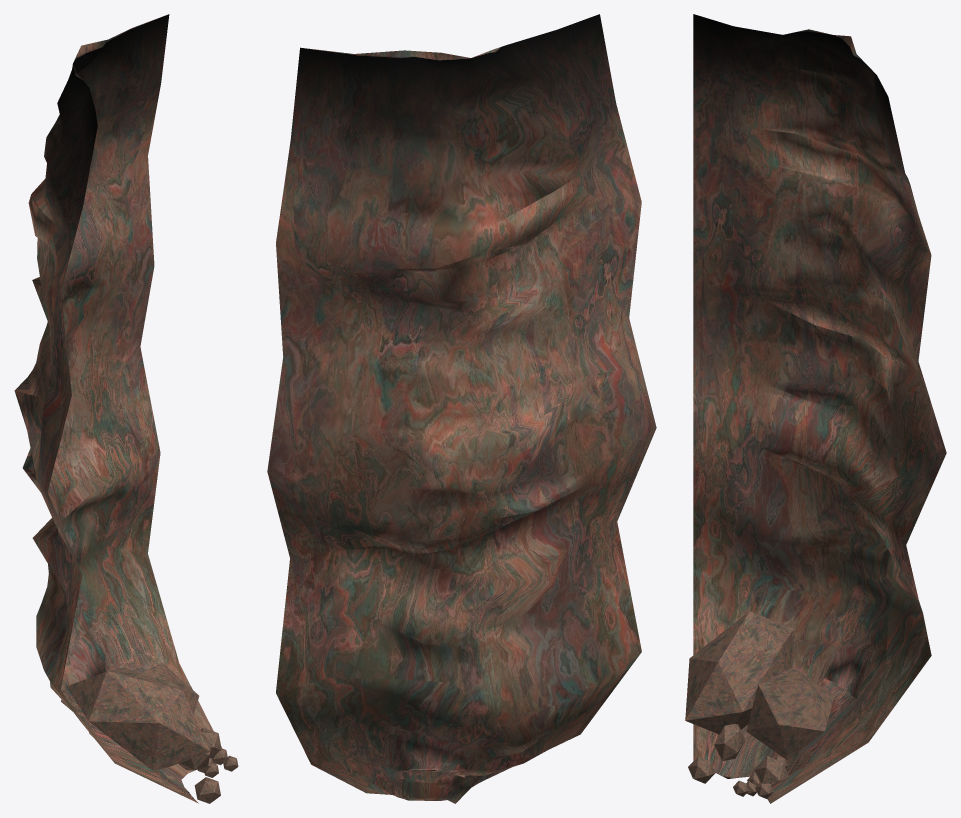
Rendered from cave_walls_concave1.glb.
3 renders of one model, left to right at view 1: azimuth 30°, elevation 25°; view 2: azimuth 150°, elevation 25°; view 3: azimuth 270°, elevation 25°, orthographic. The views are drawn at different scales.
Visible parts, largest first — view 1: cave_concave1-col; view 2: cave_concave1-col; view 3: cave_concave1-col.
Boxes of the visible parts, left/top/right/bottom form: cave_concave1-col: left=14, top=14, right=238, bottom=803; cave_concave1-col: left=267, top=14, right=656, bottom=803; cave_concave1-col: left=685, top=14, right=946, bottom=803.
Bounding box in the file's own units: 1.31 × 4.11 × 1.35.
2 materials, 2 textured.
